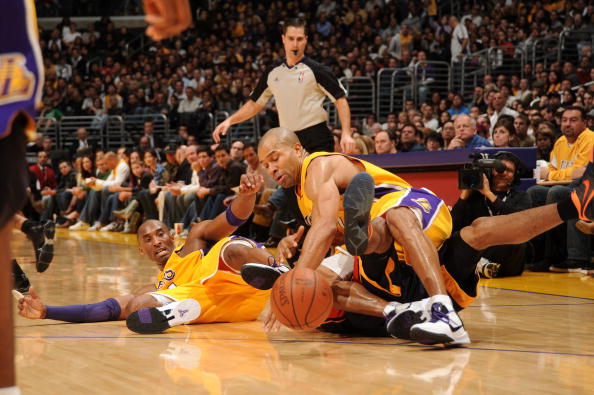10+: (1, 1, 591, 391)
down: (208, 130, 480, 357), (283, 161, 594, 352), (16, 164, 299, 343)
